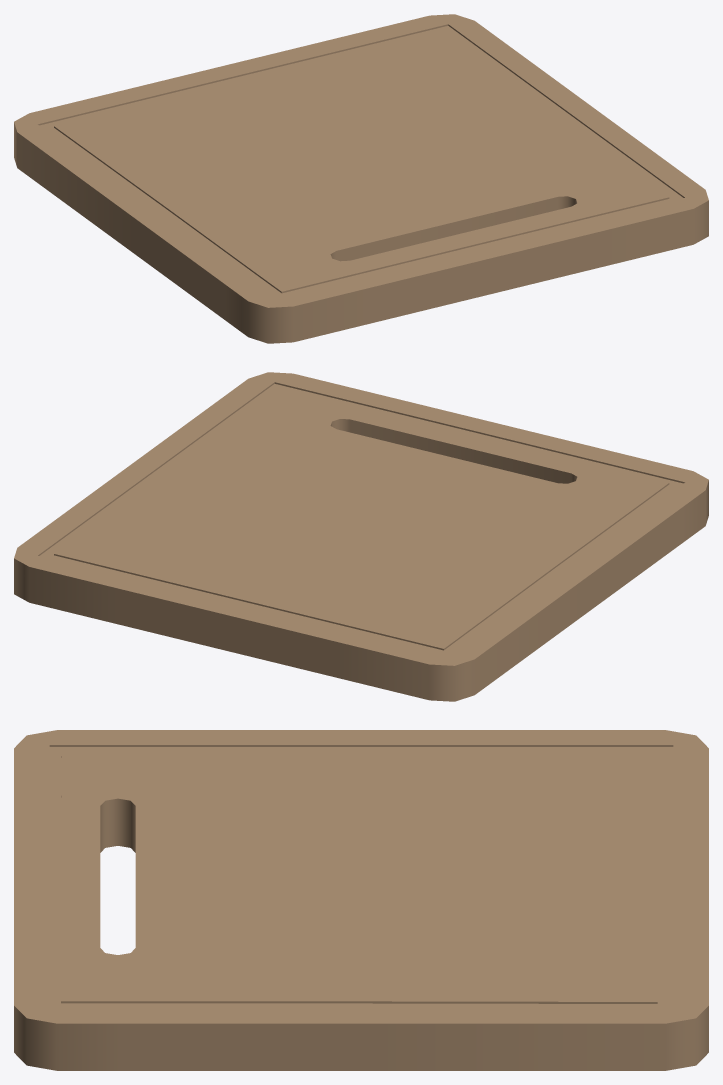
Rendered from Cutting_board.fbx.
The picture shows the model from 3 angles, top to bottom: view 1: azimuth 30°, elevation 25°; view 2: azimuth 150°, elevation 25°; view 3: azimuth 270°, elevation 25°; orthographic projection. The views are drawn at different scales.
Parts seen in each view (by area): view 1: Cutting_board; view 2: Cutting_board; view 3: Cutting_board.
Part boxes in pixels (bbox=[...]): Cutting_board: bbox=[14, 14, 708, 343]; Cutting_board: bbox=[14, 372, 708, 701]; Cutting_board: bbox=[14, 730, 708, 1070].
Bounding box in the file's own units: 400 × 30 × 400.
